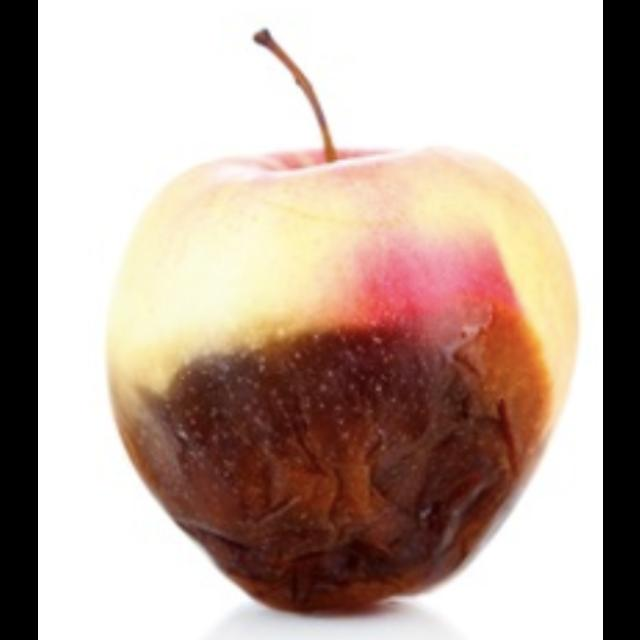Apel Tidak Segar: (97, 134, 588, 622)
